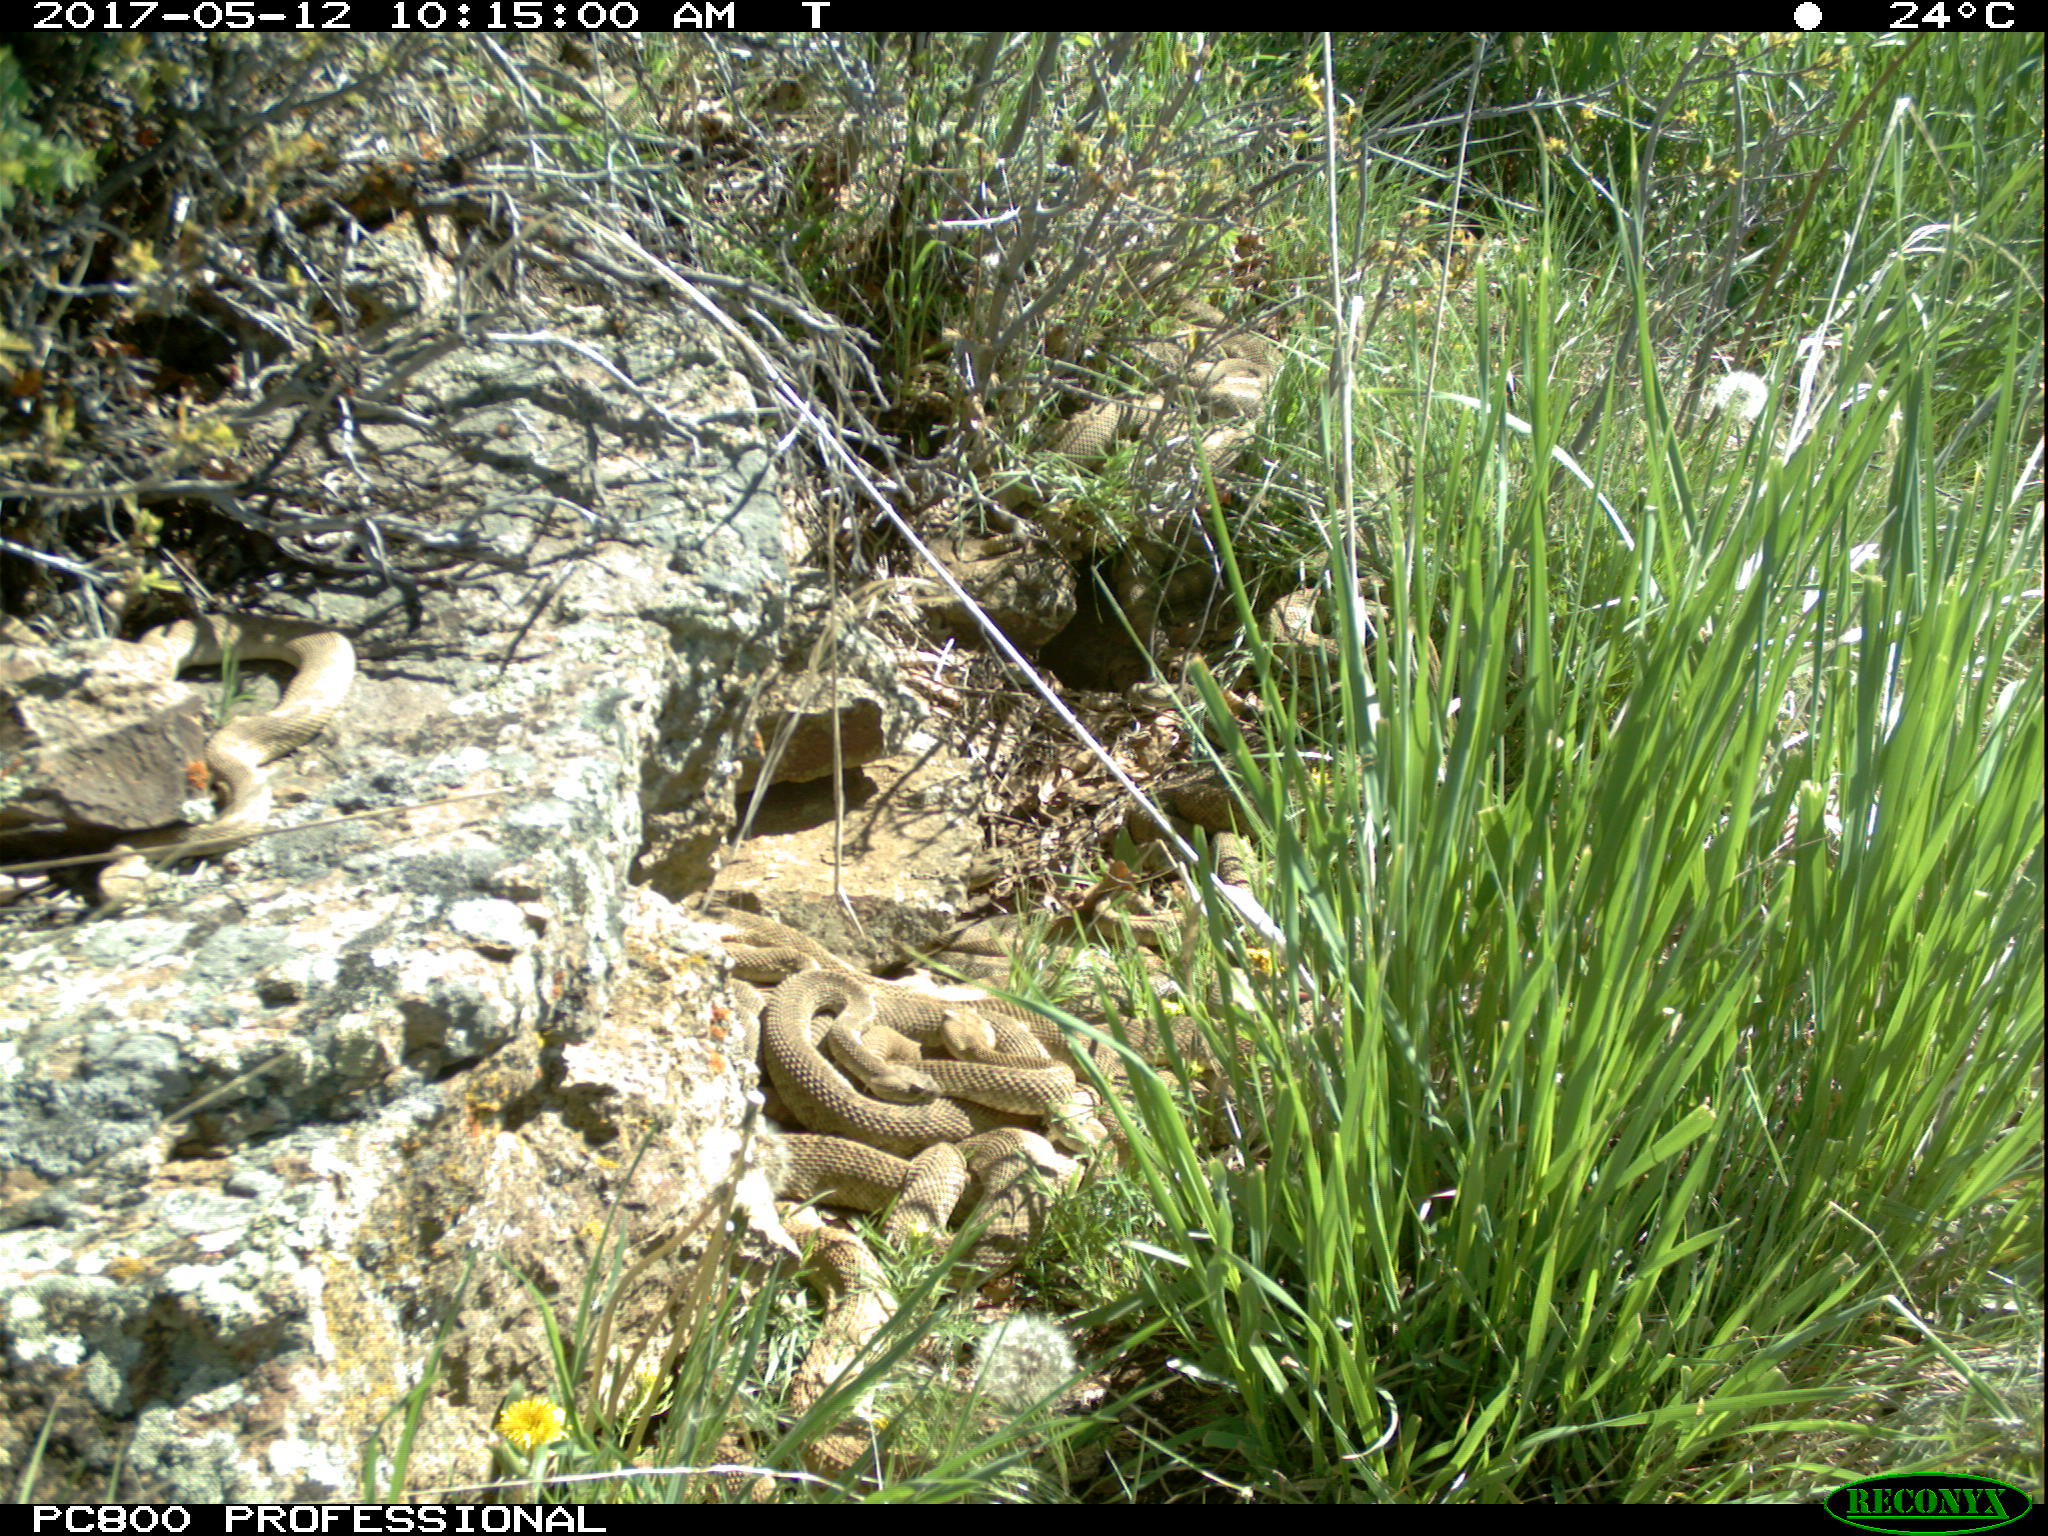snake: (140, 616, 360, 862), (1045, 300, 1284, 481), (758, 966, 976, 1141), (880, 984, 1118, 1121), (776, 1207, 889, 1481), (760, 1128, 964, 1242), (974, 1131, 1087, 1226), (711, 913, 827, 987)
